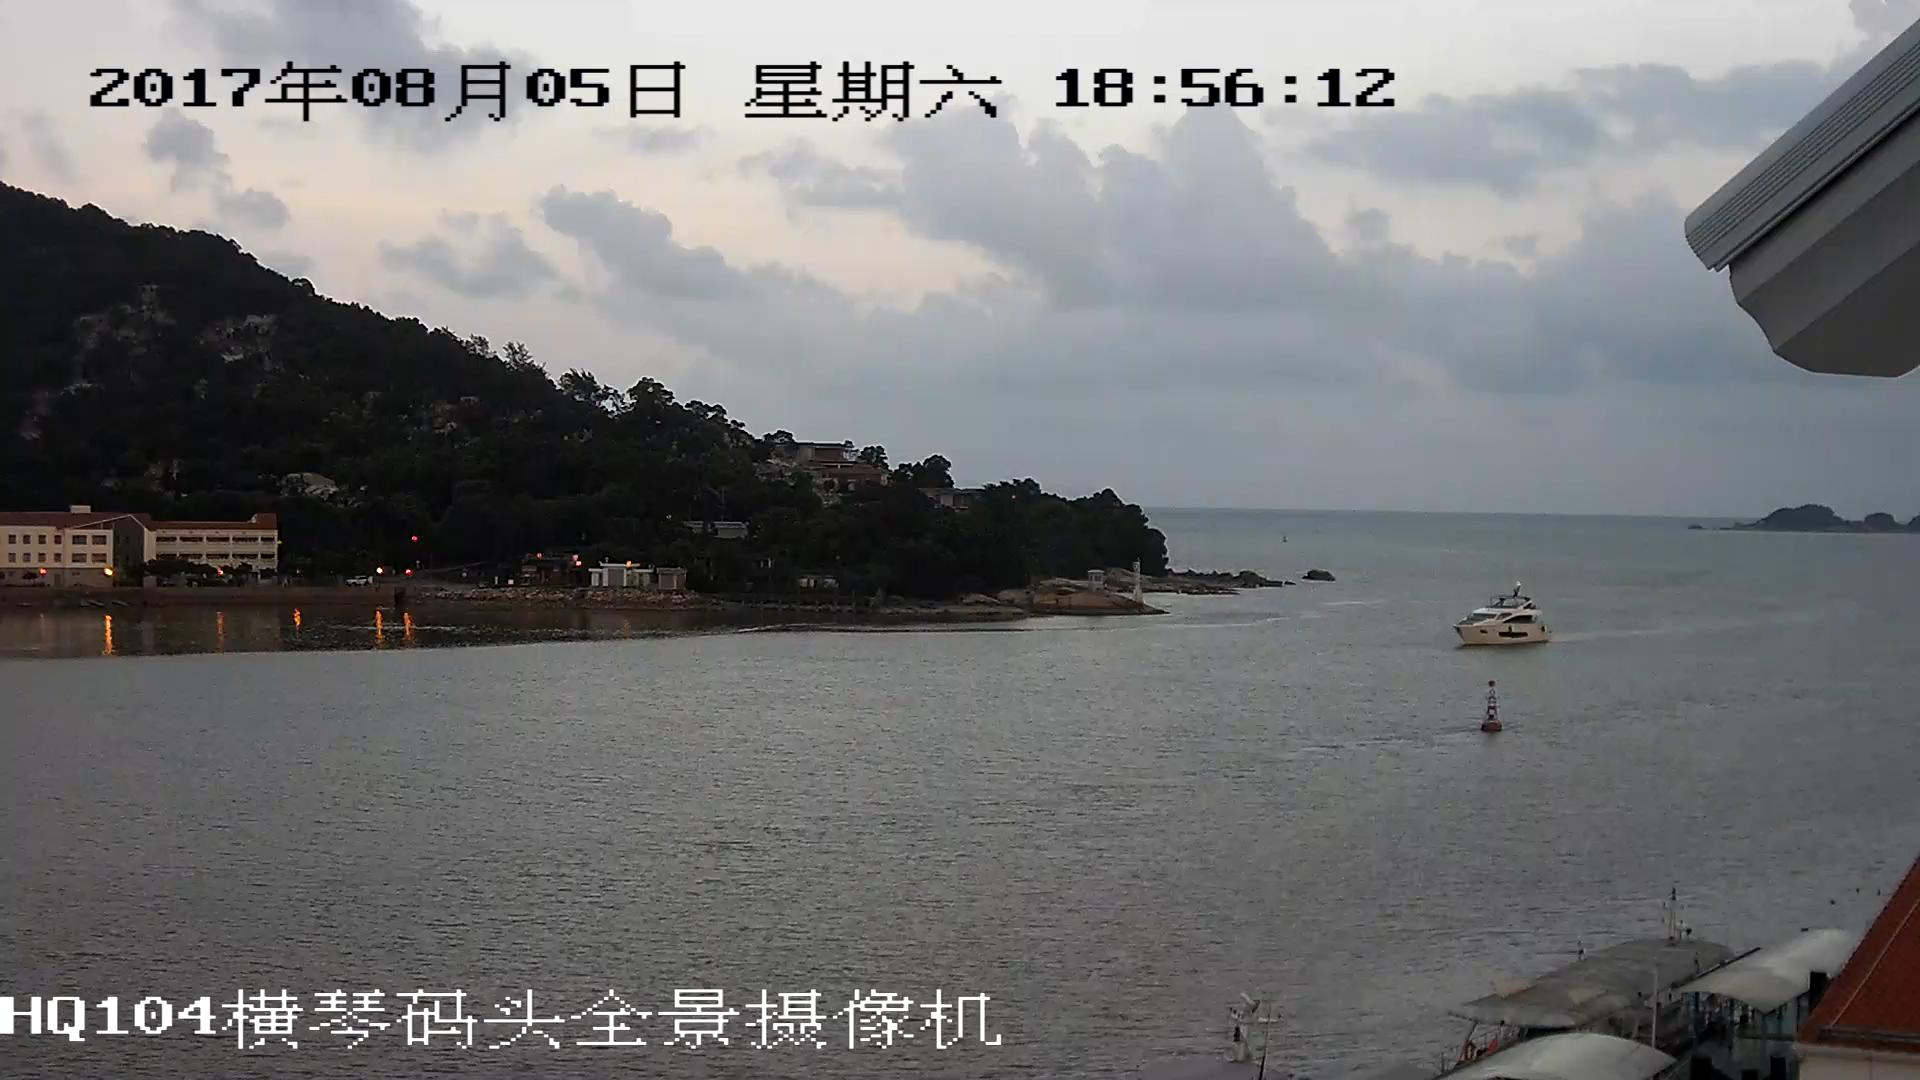passenger ship: (1452, 585, 1550, 649)
